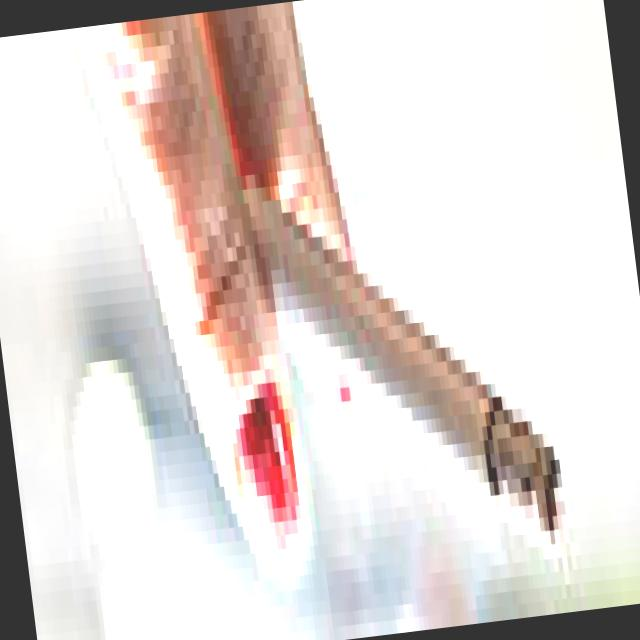cigarette: (212, 148, 580, 626)
